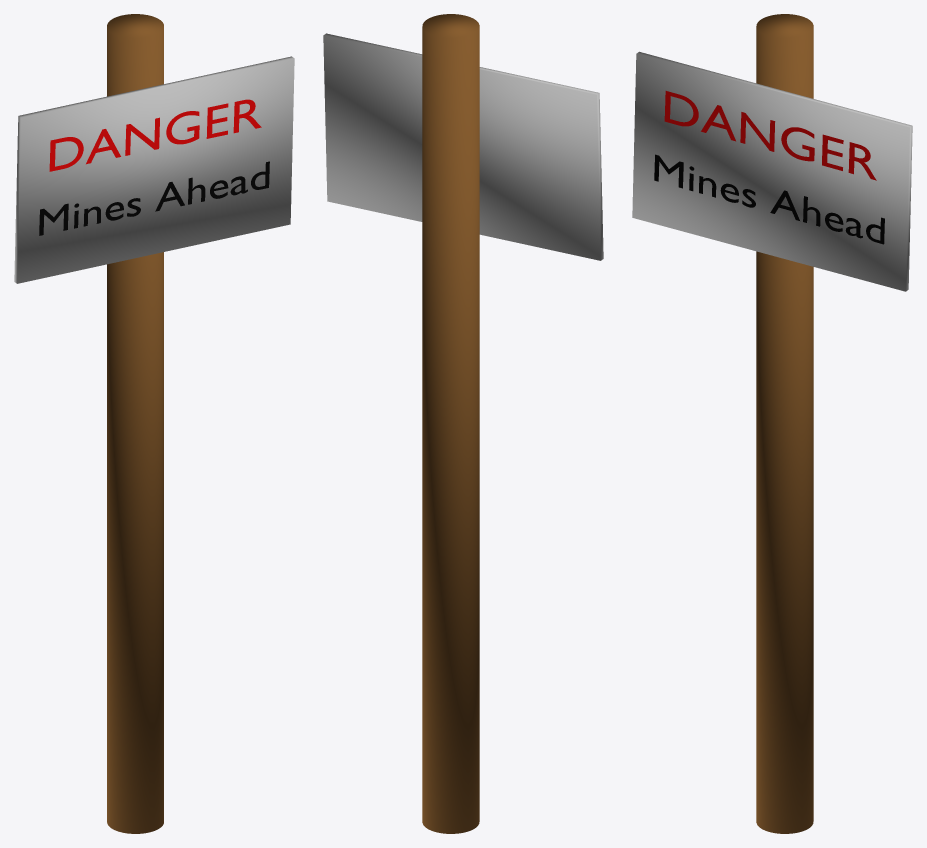
File: sign.fbx
The picture shows the model from 3 angles, left to right: view 1: azimuth 30°, elevation 25°; view 2: azimuth 150°, elevation 25°; view 3: azimuth 330°, elevation 25°; orthographic projection.
Parts seen in each view (by area): view 1: Sign; view 2: Sign; view 3: Sign.
Part boxes in pixels (bbox=[...]): Sign: bbox=[14, 14, 294, 833]; Sign: bbox=[323, 14, 603, 833]; Sign: bbox=[632, 14, 912, 833].
Bounding box in the file's own units: 72.97 × 200 × 14.33.
